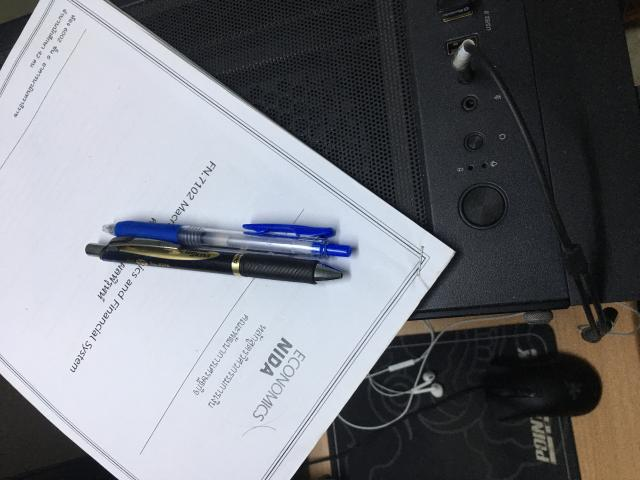Mouse: (484, 352, 602, 420)
Pen: (85, 221, 351, 284)
paper: (0, 0, 454, 479)
wire: (339, 360, 444, 430)
